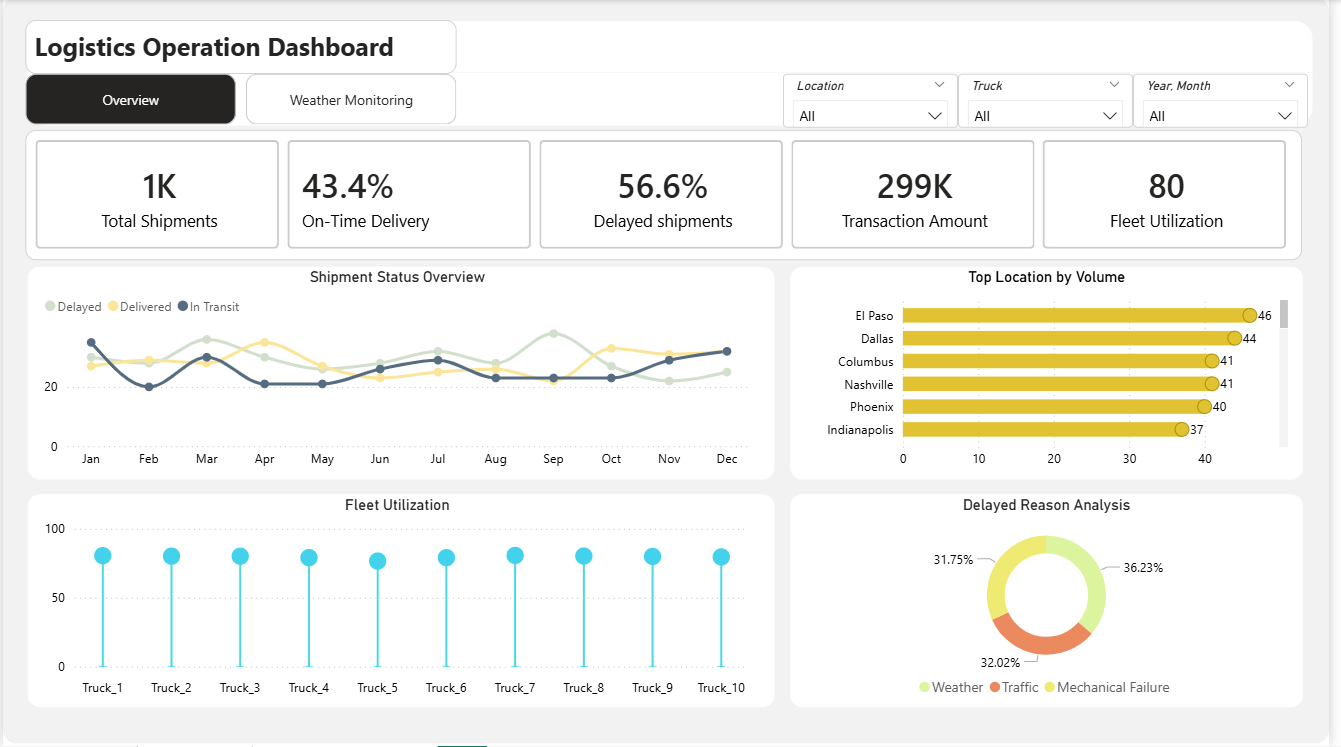

Layout of this report page (visuals, bound fields, positions):
{"tool":"powerbi","page":{"name":"Overview","canvas":[1280,720],"ordinal":0},"visuals":[{"type":"cardVisual","fields":{"Data":["_Measures.Total Shipments","_Measures.On-Time %","_Measures.Delayed %","_Measures.Transaction Amount","_Measures.Avg Utilization"]},"box":[22,126,1231.8,125.5],"z":0},{"type":"slicer","fields":{"Values":["LogisticsData.City"]},"box":[752.8,71.2,168.9,51.9],"z":1000},{"type":"slicer","fields":{"Values":["LogisticsData.Asset ID"]},"box":[921.7,71.2,168.9,51.9],"z":2000},{"type":"slicer","fields":{"Values":["Date.Year","Date.Month"]},"box":[1090.6,71.2,168.9,51.9],"z":3000},{"type":"lineChart","title":"Shipment Status Overview","fields":{"Category":["Date.Month"],"Y":["_Measures.Total Shipments"],"Series":["LogisticsData.Shipment Status"]},"box":[35,258.2,691.3,202.7],"z":4000},{"type":"lineChart","title":"Fleet Utilization ","fields":{"Category":["LogisticsData.Asset ID"],"Y":["_Measures.Avg Utilization"]},"box":[35,479,691,203],"z":5000},{"type":"barChart","title":"Top Location by Volume","fields":{"Category":["LogisticsData.City"],"Y":["_Measures.Total Shipments"]},"box":[769.7,258.2,475.3,202.7],"z":6000},{"type":"donutChart","title":" Delayed Reason Analysis","fields":{"Category":["LogisticsData.Logistics Delay Reason"],"Y":["_Measures.Total Shipments"]},"box":[770,479,475,203],"z":7000},{"type":"textbox","box":[21.7,19.3,416.2,51.9],"z":8000},{"type":"pageNavigator","box":[21.7,71.2,416.2,49.5],"z":9000}]}

Visuals, with their boxes in screenshot pixels (x1, y1, x2, y2), scaled from the page's 1280x720 canvas onto the 1341x747 screenshot:
cardVisual - _Measures.Total Shipments x _Measures.On-Time %: [left=23, top=131, right=1314, bottom=261]
slicer - LogisticsData.City: [left=789, top=74, right=966, bottom=128]
slicer - LogisticsData.Asset ID: [left=966, top=74, right=1143, bottom=128]
slicer - Date.Year x Date.Month: [left=1143, top=74, right=1320, bottom=128]
"Shipment Status Overview" lineChart: [left=37, top=268, right=761, bottom=478]
"Fleet Utilization " lineChart: [left=37, top=497, right=761, bottom=708]
"Top Location by Volume" barChart: [left=806, top=268, right=1304, bottom=478]
" Delayed Reason Analysis" donutChart: [left=807, top=497, right=1304, bottom=708]
textbox: [left=23, top=20, right=459, bottom=74]
pageNavigator: [left=23, top=74, right=459, bottom=125]
